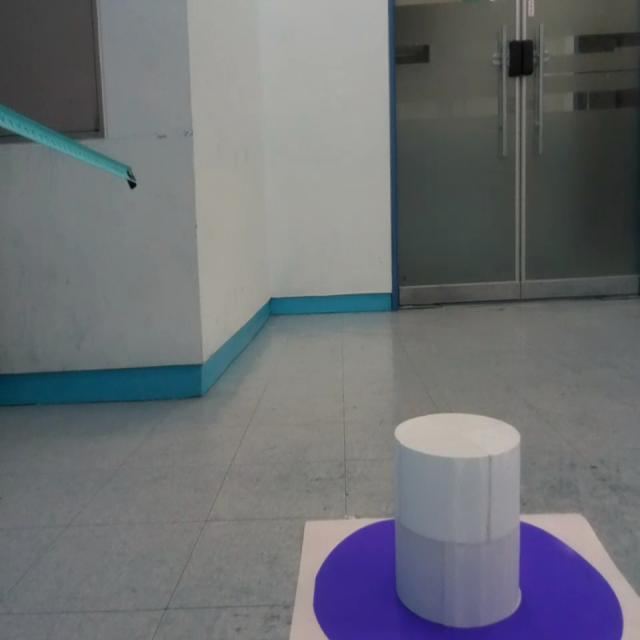cylinder: (394, 414, 524, 629)
